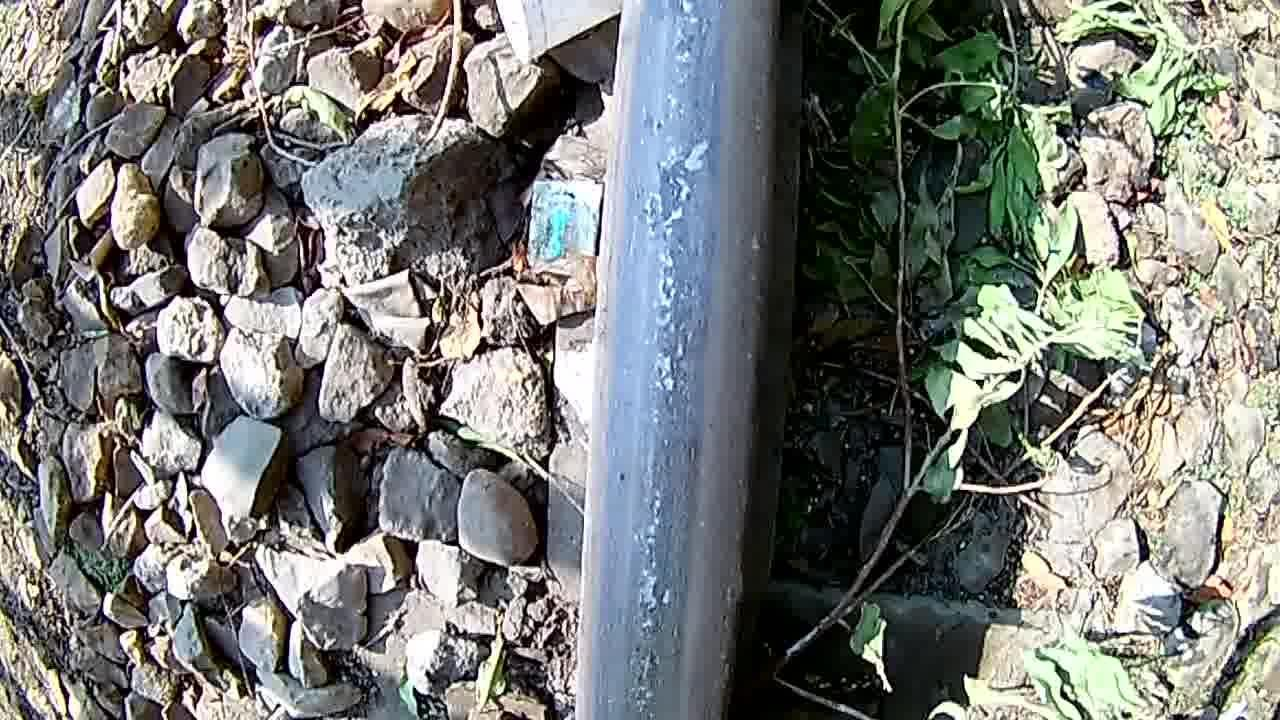crack: (597, 3, 729, 720)
